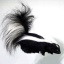skunk: (3, 3, 62, 54)
